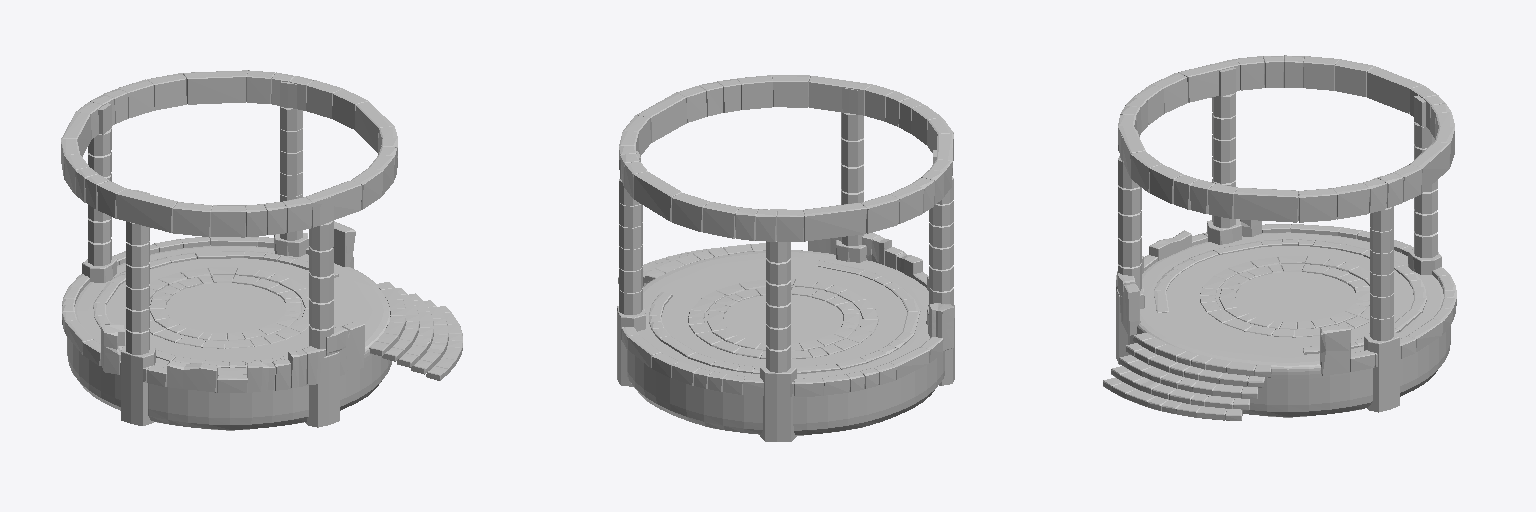
Rendered from altar.obj.
The picture shows the model from 3 angles: view 1: azimuth 30°, elevation 25°; view 2: azimuth 150°, elevation 25°; view 3: azimuth 270°, elevation 25°; orthographic projection.
Parts seen in each view (by area): view 1: Cylindre.001; view 2: Cylindre.001; view 3: Cylindre.001.
Boxes of the visible parts, <box> form: Cylindre.001: <box>61,70,462,430</box>; Cylindre.001: <box>617,75,954,441</box>; Cylindre.001: <box>1103,55,1456,420</box>.
Size of the model in its own units: 7.03 by 4.71 by 6.36.